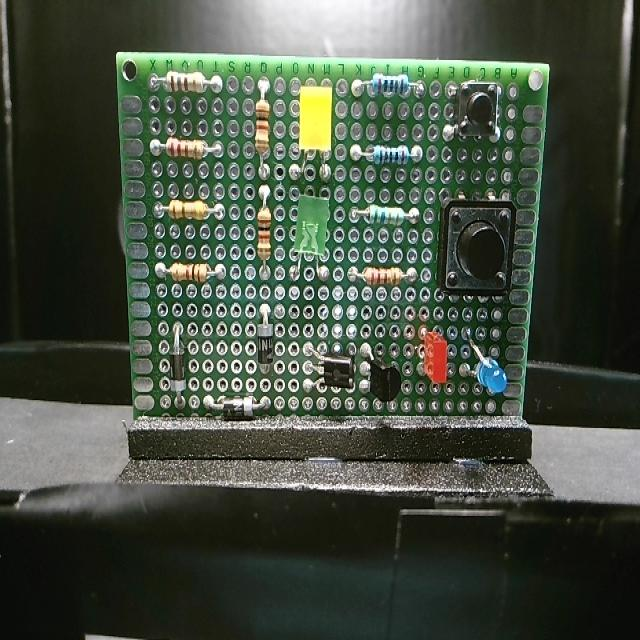diode: (218, 394, 256, 421), (254, 322, 276, 367), (168, 350, 188, 394)
led: (295, 81, 337, 158), (296, 192, 330, 262), (472, 348, 509, 398), (421, 329, 449, 386)
resistor: (169, 258, 214, 285), (369, 71, 412, 99), (166, 199, 212, 225), (164, 137, 209, 162), (165, 69, 206, 96), (360, 264, 404, 289), (369, 144, 412, 168), (365, 203, 408, 226), (255, 96, 271, 157), (256, 199, 271, 263)
switch: (438, 197, 518, 300), (454, 80, 500, 141)
transistor: (367, 355, 403, 406), (320, 351, 354, 394)
